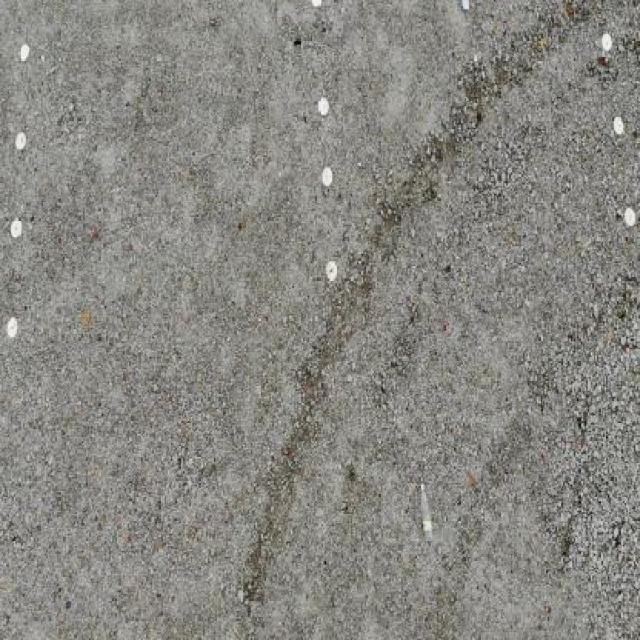Garbage: (420, 483, 434, 543), (461, 1, 470, 10)
